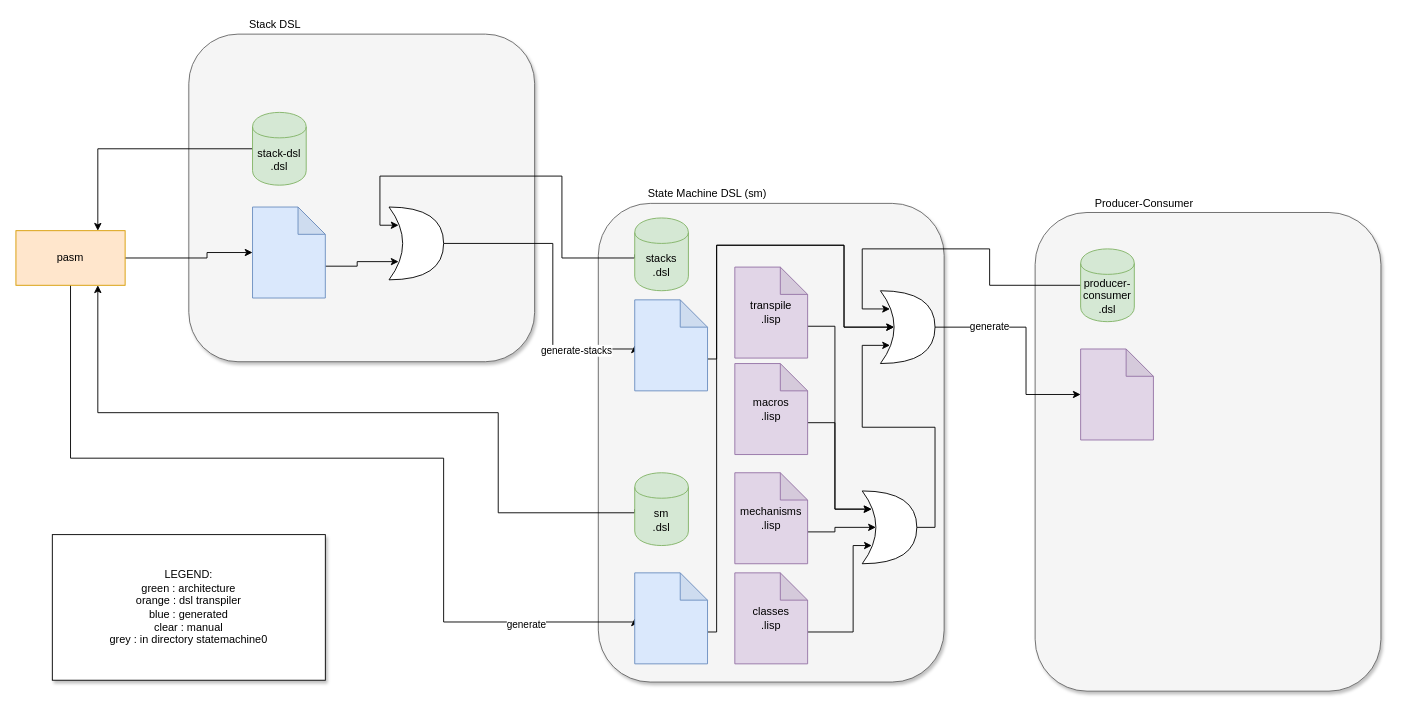
The diagram is 1402 pixels wide and 713 high, and some of its shapes have lost their labels. The shapes that lost their labels are listed below. From the top down, each one's centre as x and y in pixels, then its label:
the point at 288,252: stack-dsl .lisp
the point at 671,345: stacks .lisp
the point at 1116,394: producer- consumer .lisp
the point at 671,618: sm .lisp
